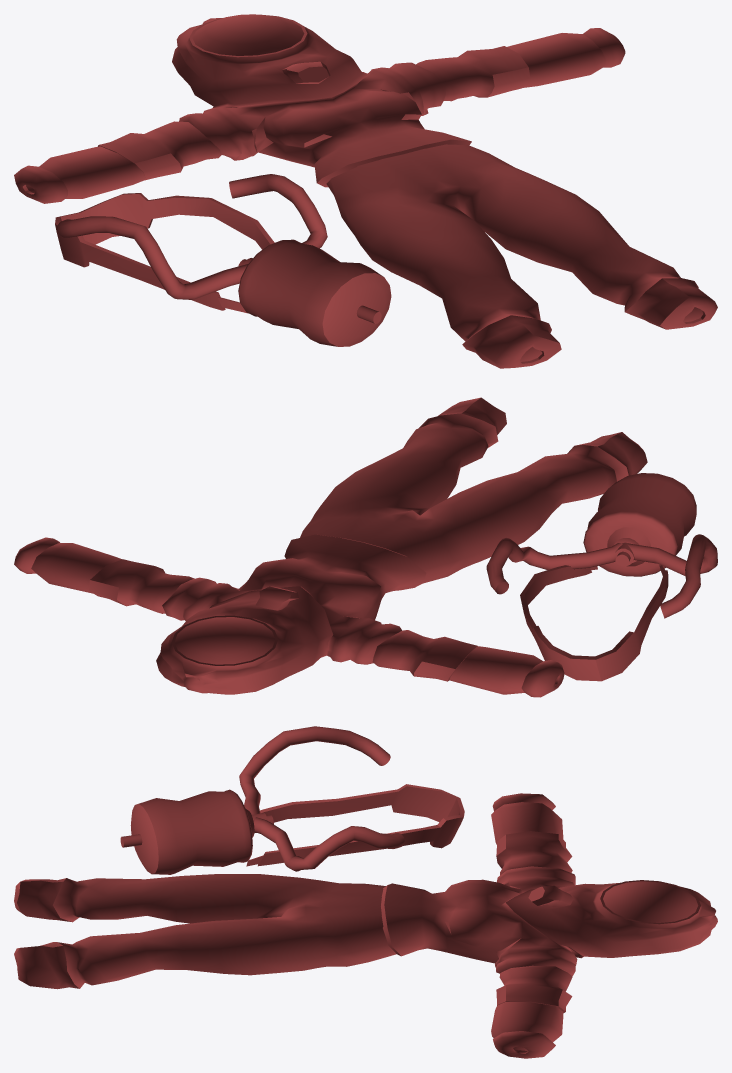
The model's file is W_Antibelok.FBX.
The picture shows the model from 3 angles, top to bottom: view 1: azimuth 30°, elevation 25°; view 2: azimuth 150°, elevation 25°; view 3: azimuth 270°, elevation 25°; orthographic projection. The views are drawn at different scales.
Parts seen in each view (by area): view 1: VOL4; view 2: VOL4; view 3: VOL4.
Boxes of the visible parts, left/top/right/bottom form: VOL4: left=14, top=14, right=717, bottom=368; VOL4: left=14, top=397, right=717, bottom=697; VOL4: left=14, top=726, right=717, bottom=1058.
Size of the model in its own units: 89.18 by 13.3 by 96.16.
